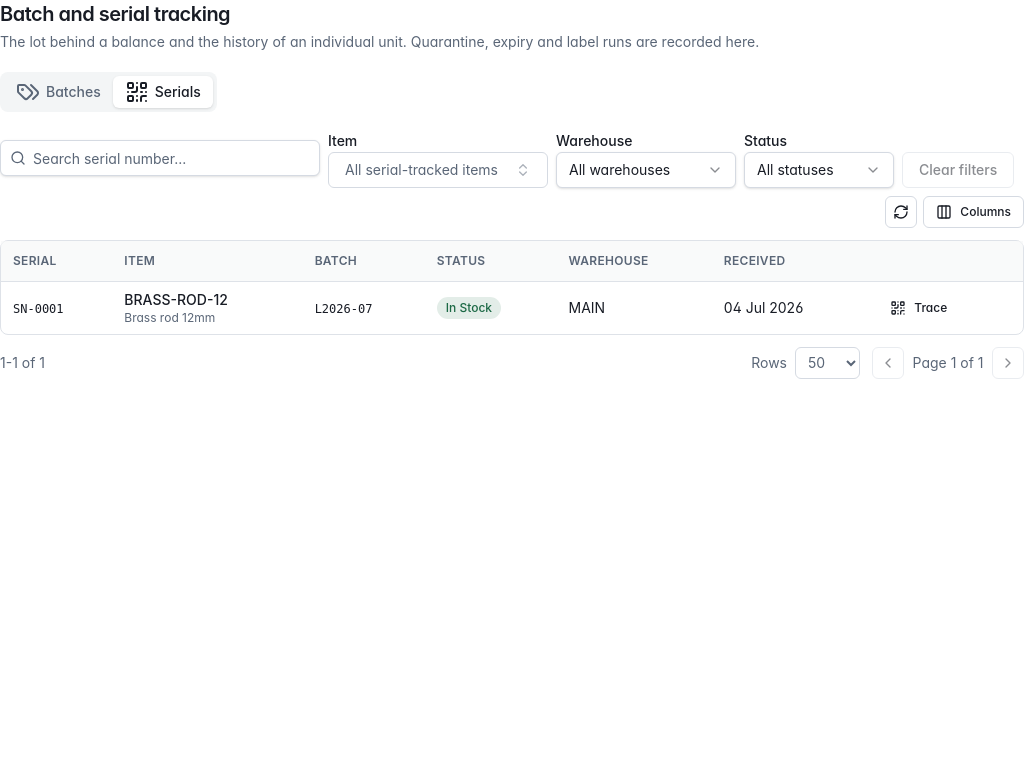
Scenario: serial tracking › traces the original and processed product identities while preserving the physical label
The width and height of the screenshot is (1024, 768).
Click the button with aria-label "trace serial SN-0001". click: (919, 308)
box: [878,292,959,324]
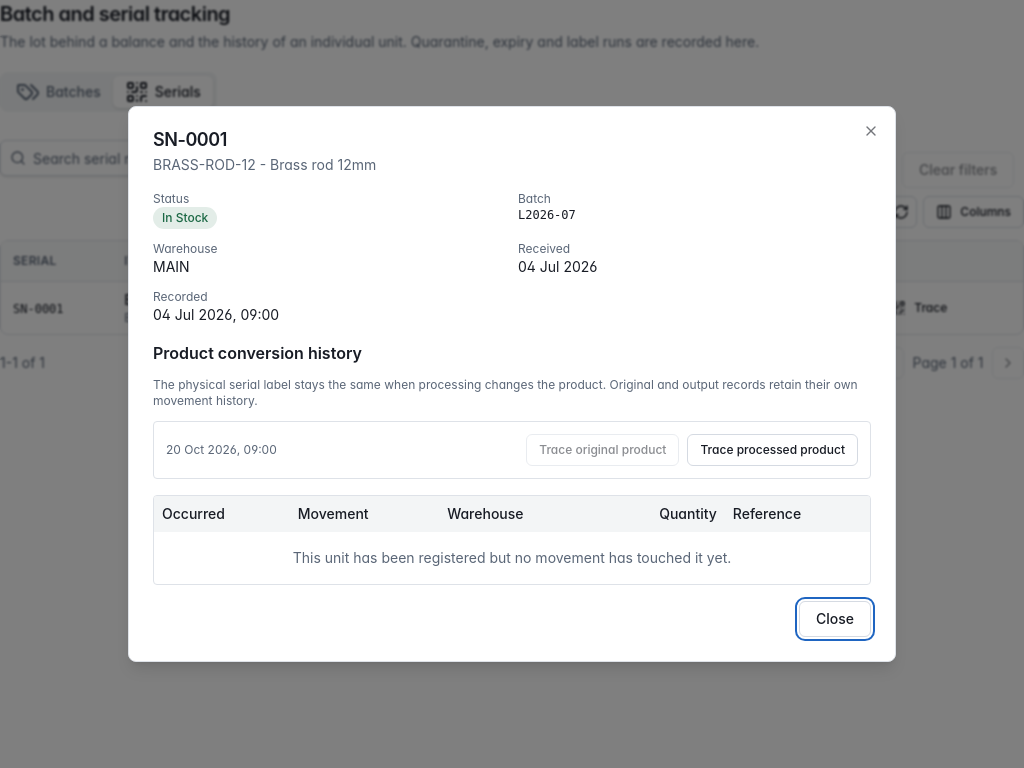
Check: the heading "Product conversion history" is shown, box [153,343,362,363]
Check: the button "Trace original product" is disabled, box [526,434,680,466]
Click the button "Trace processed product". click: (773, 450)
box: [688,434,858,466]
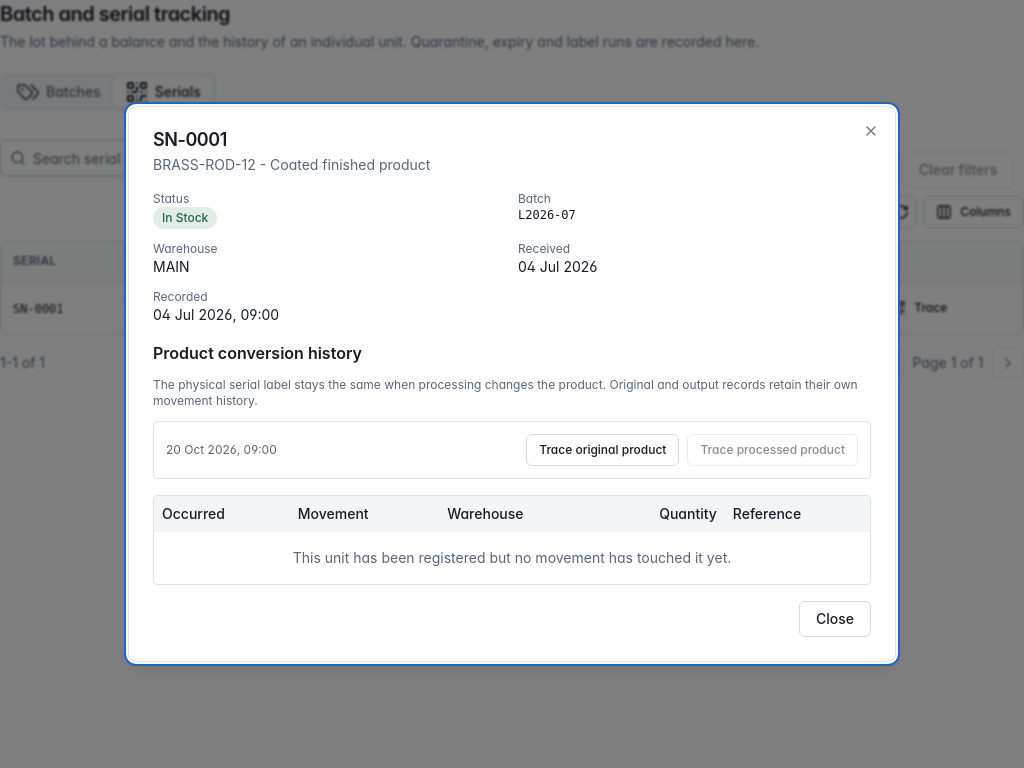
Check: the heading "SN-0001" is shown, box [153,129,227,150]
Check: the text "BRASS-ROD-12 - Coated finished product" is shown, box [153,156,430,173]
Check: the button "Trace processed product" is disabled, box [688,434,858,466]
Click the button "Trace original product". click: (603, 450)
box: [526,434,680,466]
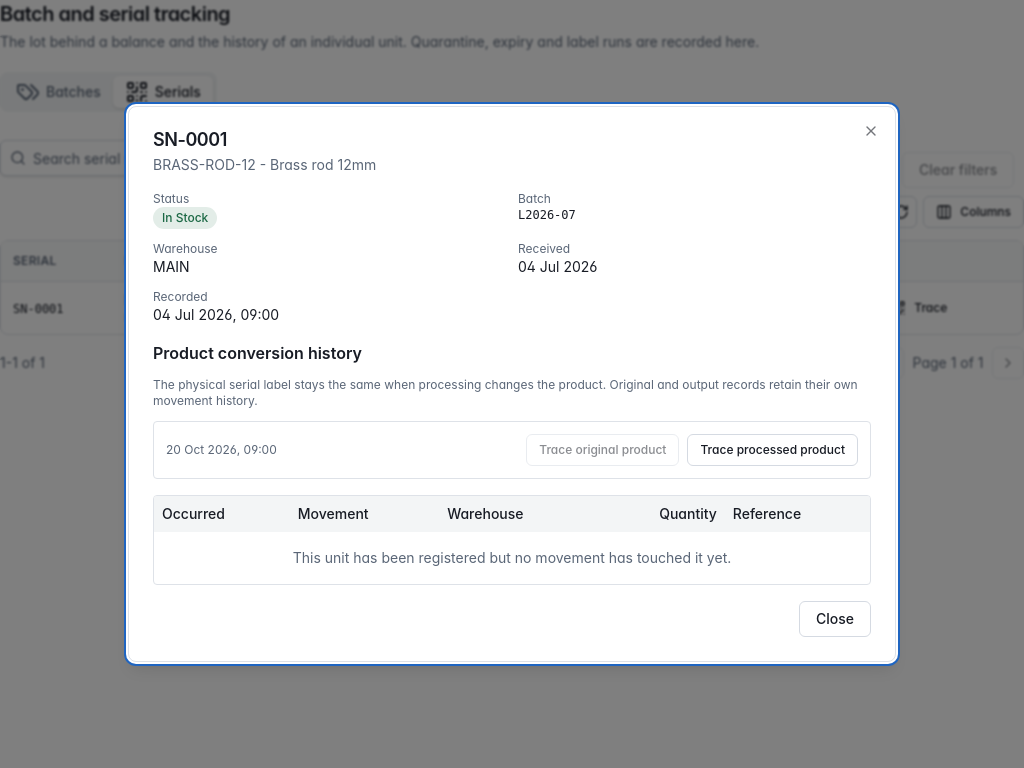
Check: the button "Trace original product" is disabled, box [526,434,680,466]
